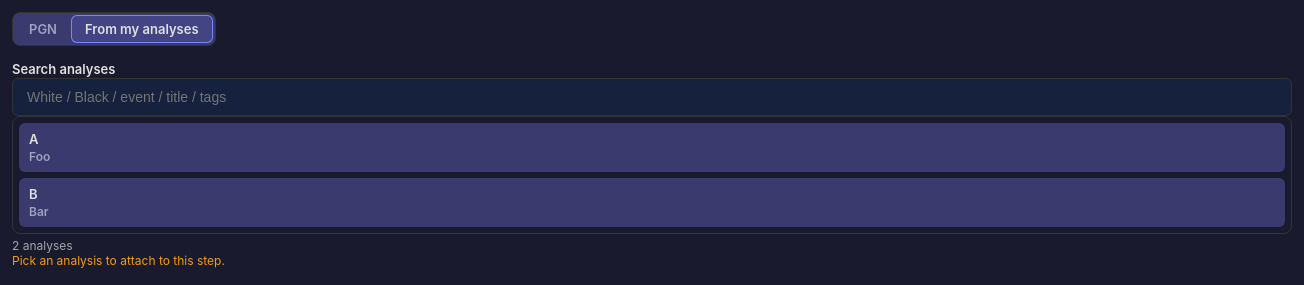
<GameStepEditor> (KS-3181) › KS-3202 (v2): backend вернул пустой массив на поиск → показывает «Сбросить фильтр»; клик возвращает полный список
This screenshot has width=1304, height=285.
Expected: the list with test id "game-step-editor-workshop-list" is shown, [12,116,1292,234]
Type "nomatch" into the field with test id "game-step-editor-workshop-search".
click(652, 97); type("nomatch")  # box [12,78,1292,116]
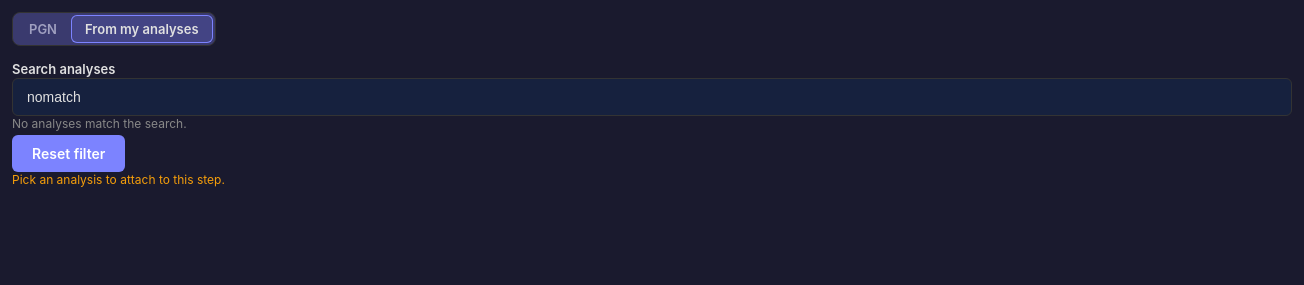
Result: the element with test id "game-step-editor-workshop-search-empty" is shown at [12,116,187,172]
Click the button with test id "game-step-editor-workshop-reset-filter".
click(69, 154)  # box [12,135,125,172]
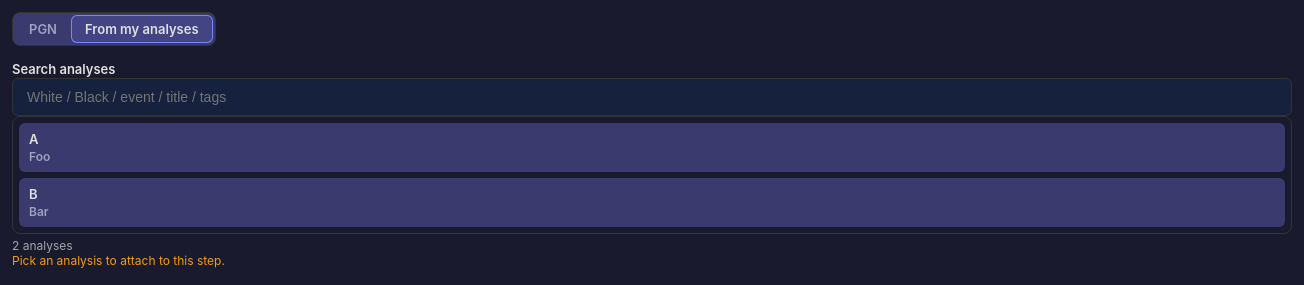
Result: the field with test id "game-step-editor-workshop-search" is empty at [12,78,1292,116]
Result: the list item with test id "game-step-editor-workshop-item-a1" is shown at [19,123,1285,172]
Result: the list item with test id "game-step-editor-workshop-item-a2" is shown at [19,178,1285,227]
